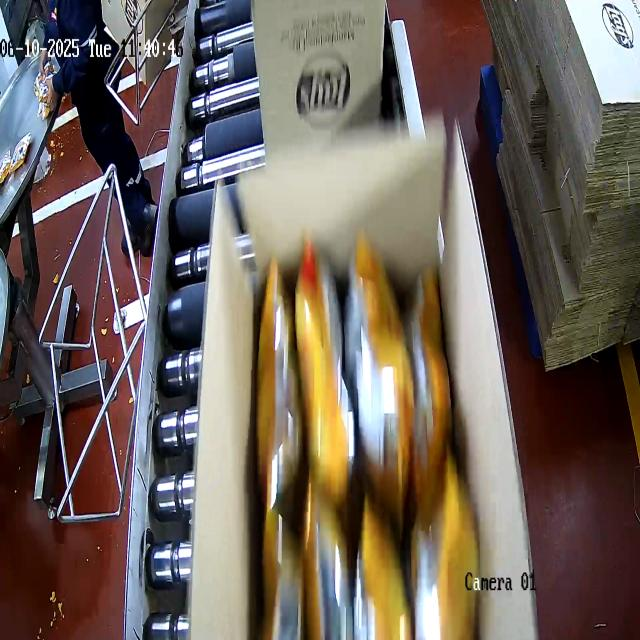FRENCH_CHEESE: (253, 245, 483, 640)
